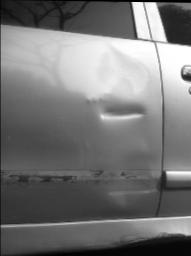Door: (39, 30, 161, 166)
